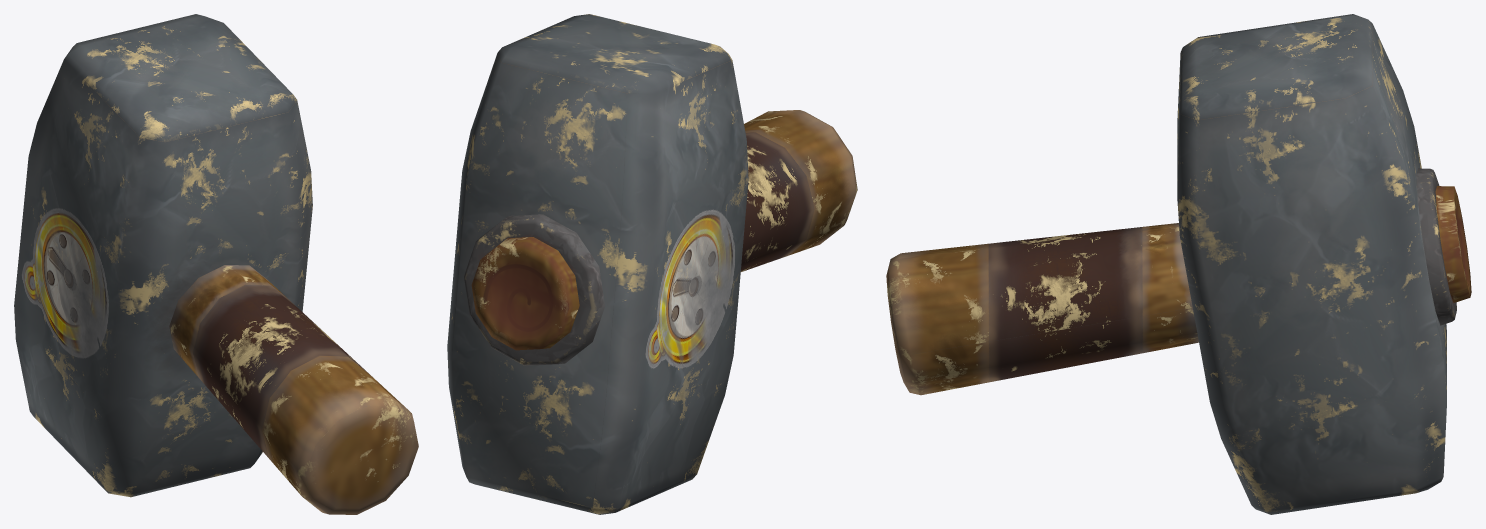
The model's file is ANIM_PR_BuildingHammer.fbx.
The picture shows the model from 3 angles, left to right: view 1: azimuth 30°, elevation 25°; view 2: azimuth 150°, elevation 25°; view 3: azimuth 270°, elevation 25°; orthographic projection. The views are drawn at different scales.
Visible parts, largest first — view 1: PR_BuildingHammer; view 2: PR_BuildingHammer; view 3: PR_BuildingHammer.
Boxes of the visible parts, x1=… form: PR_BuildingHammer: x1=14, y1=14, x2=418, y2=514; PR_BuildingHammer: x1=447, y1=14, x2=857, y2=514; PR_BuildingHammer: x1=886, y1=14, x2=1471, y2=514.
Bounding box in the file's own units: 0.734 × 1.54 × 1.88.
1 material, 1 textured.
